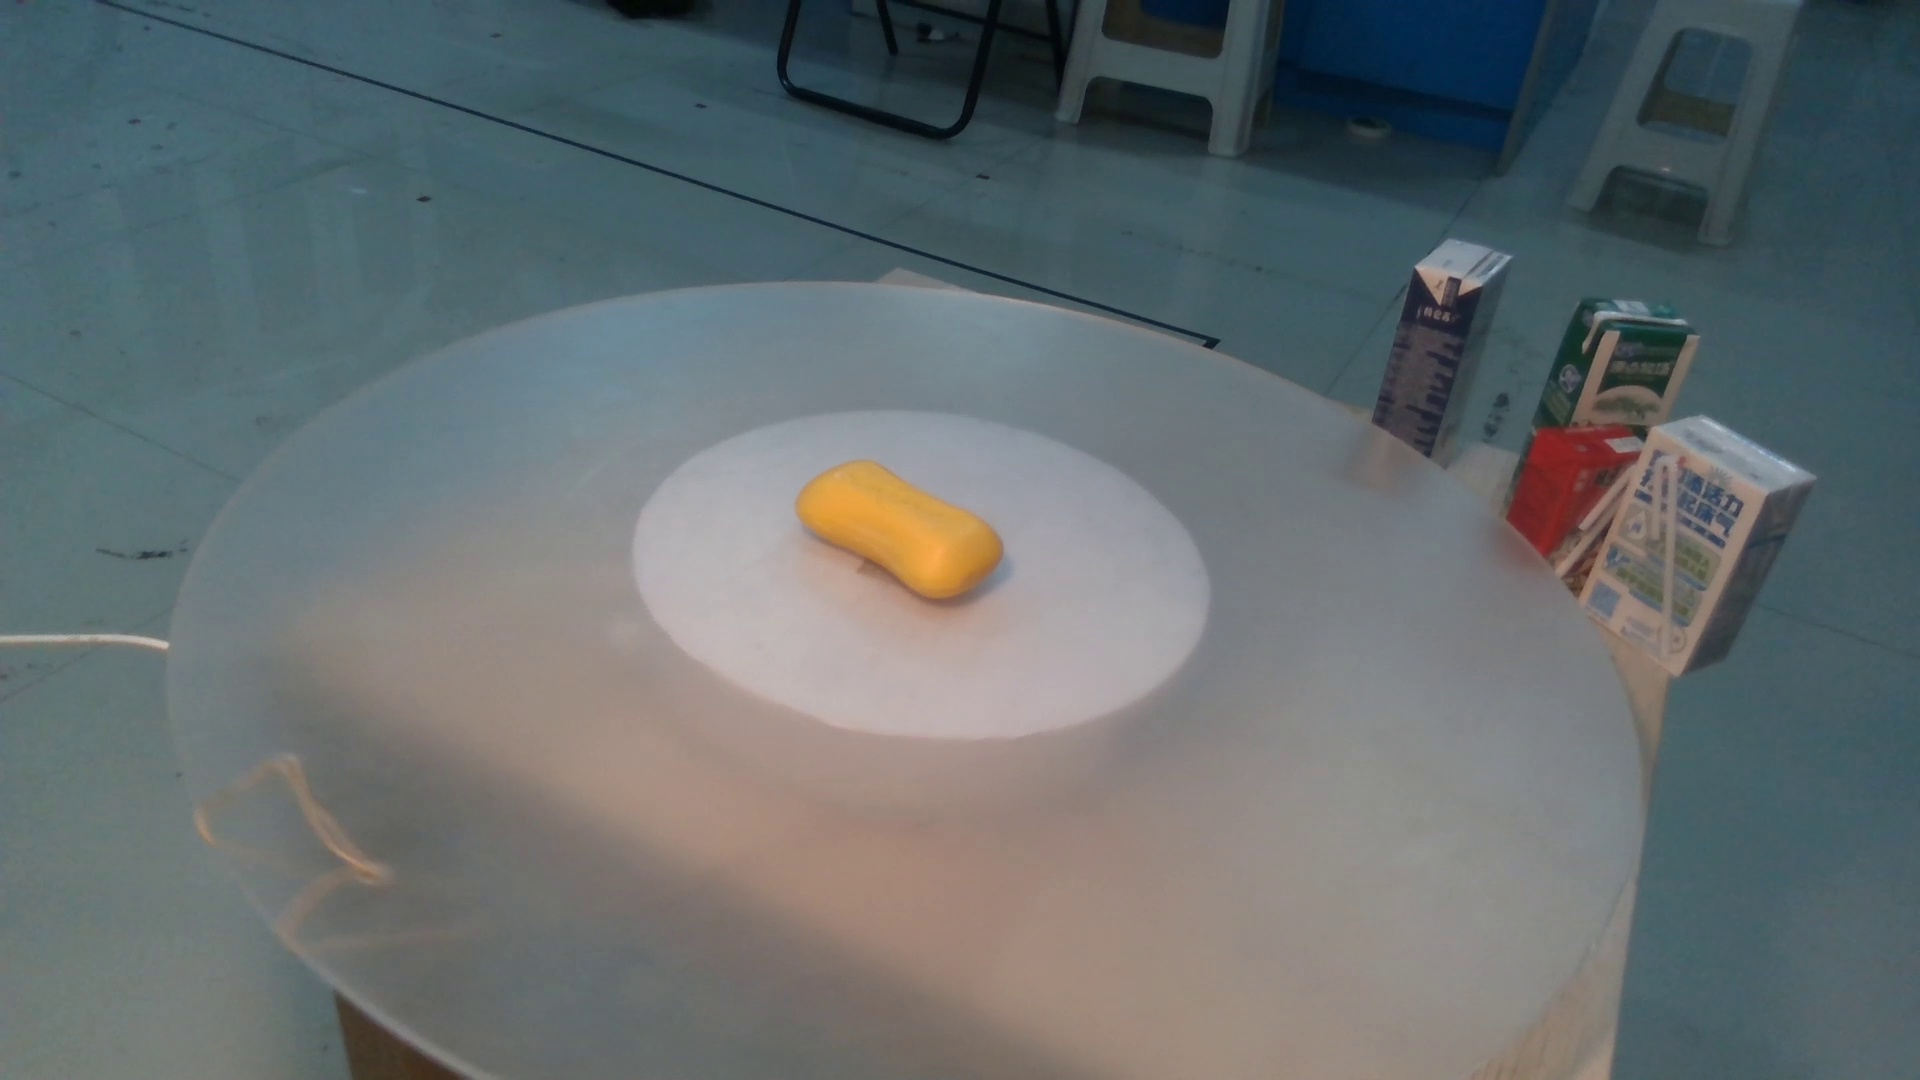CA003_1: (787, 440, 1029, 644)
